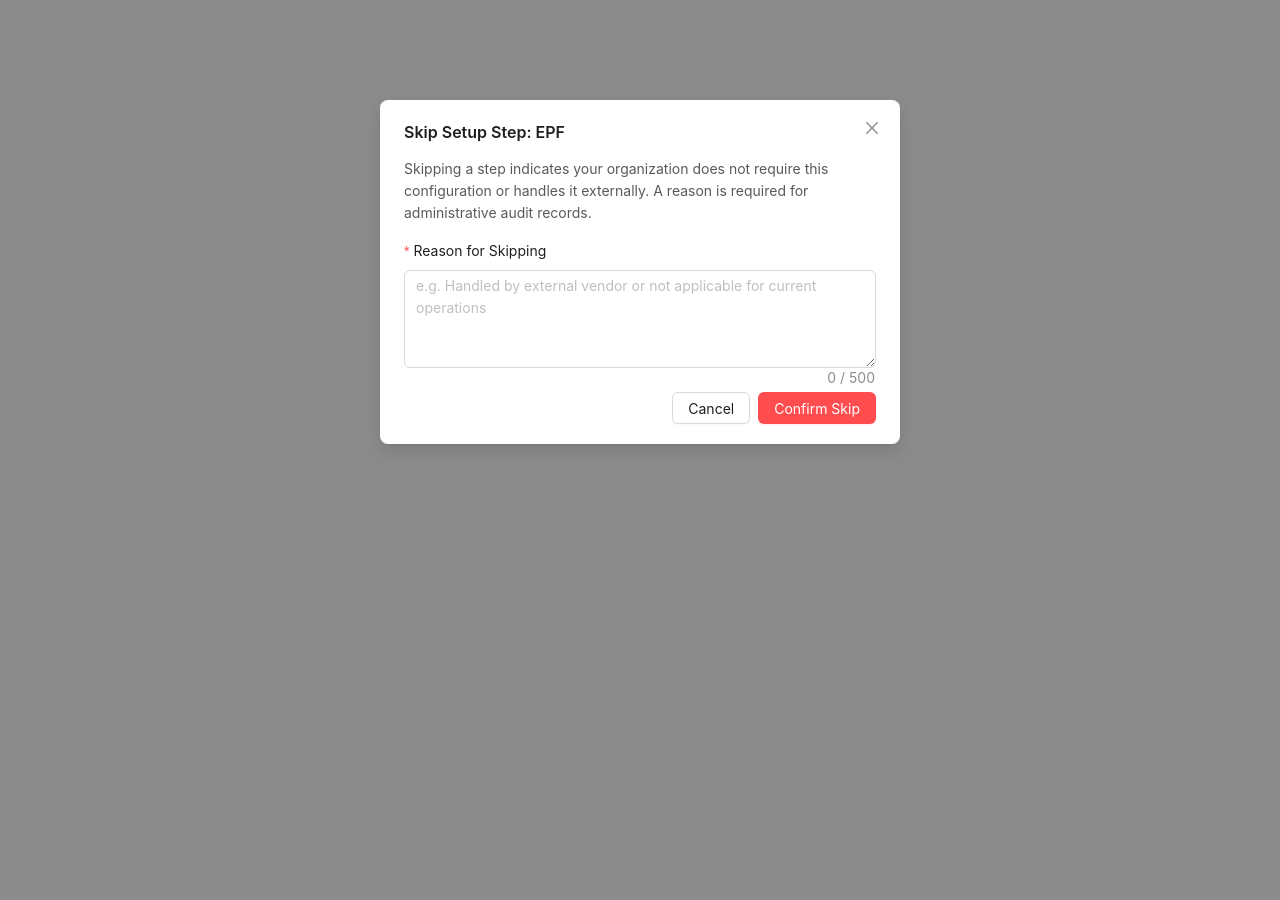
Scenario: SkipStepModal component › a 400 response shows the error message in an alert
Replace the text in the text box with id "input-skip-reason" with "Exceedingly long reason" at (640, 319), box [405,271,875,367]
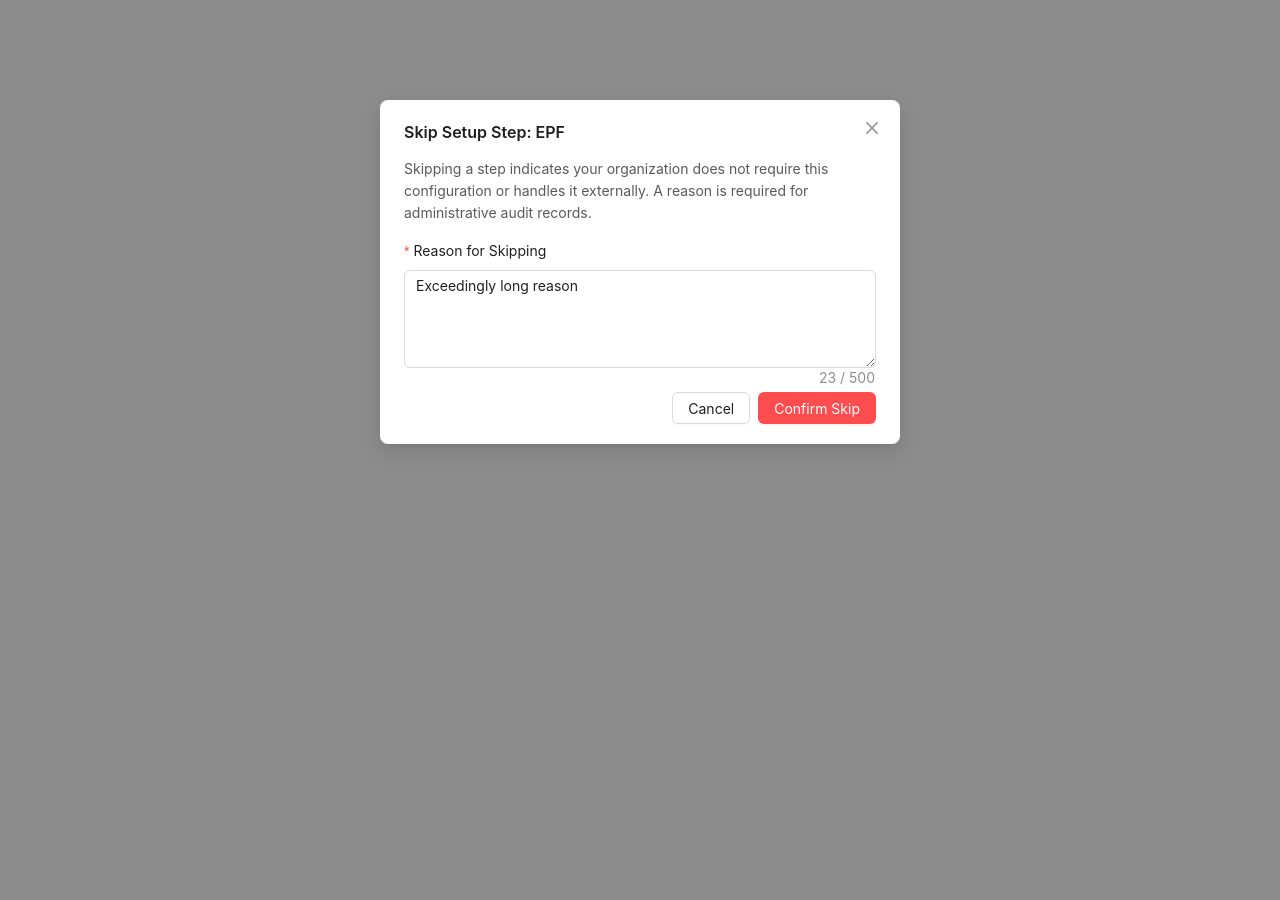
Click the button with id "btn-confirm-skip-step".
click(817, 408)  # box [758,392,876,424]
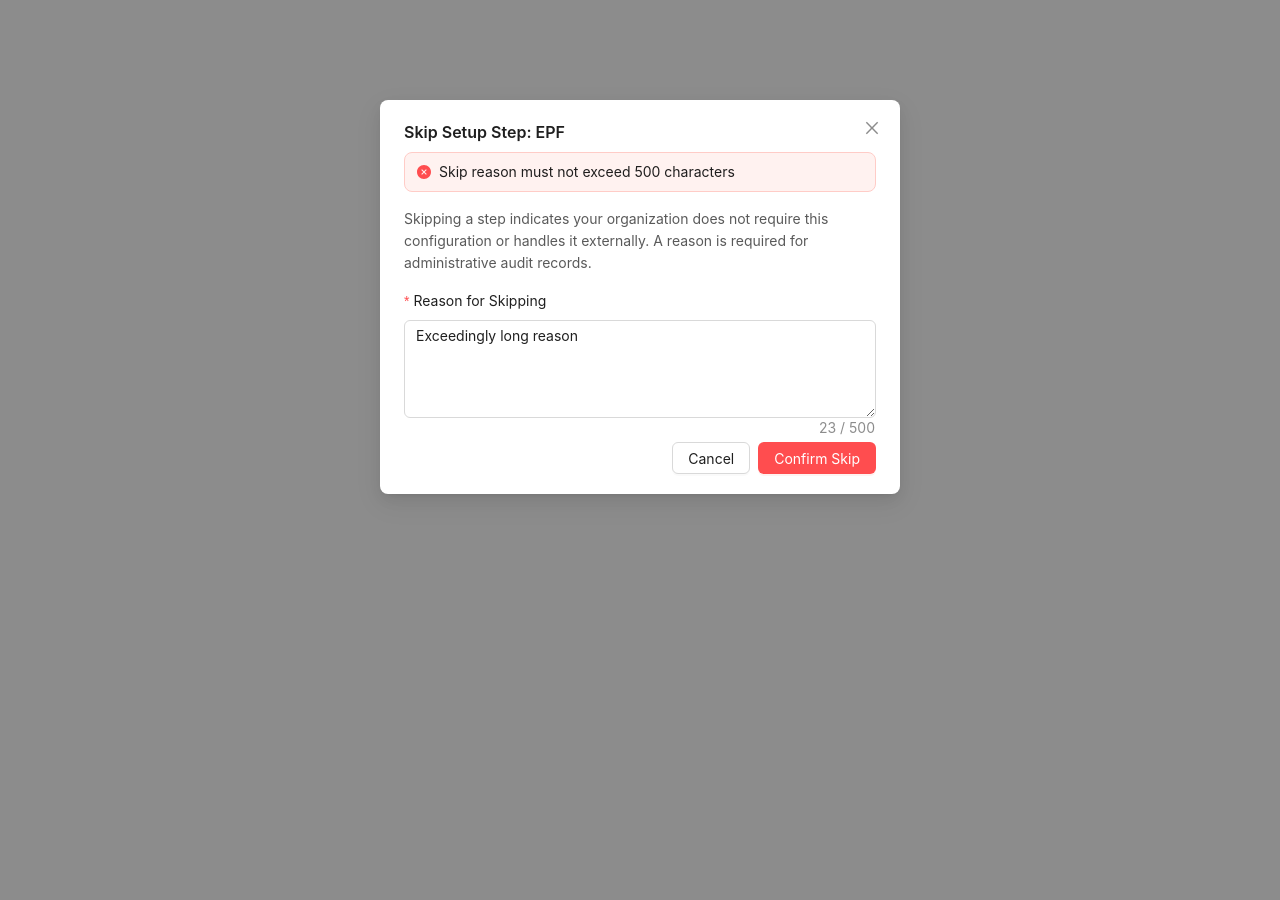
Check: the text "Skip reason must not exceed 500 characters" is shown, box [439,163,735,180]
